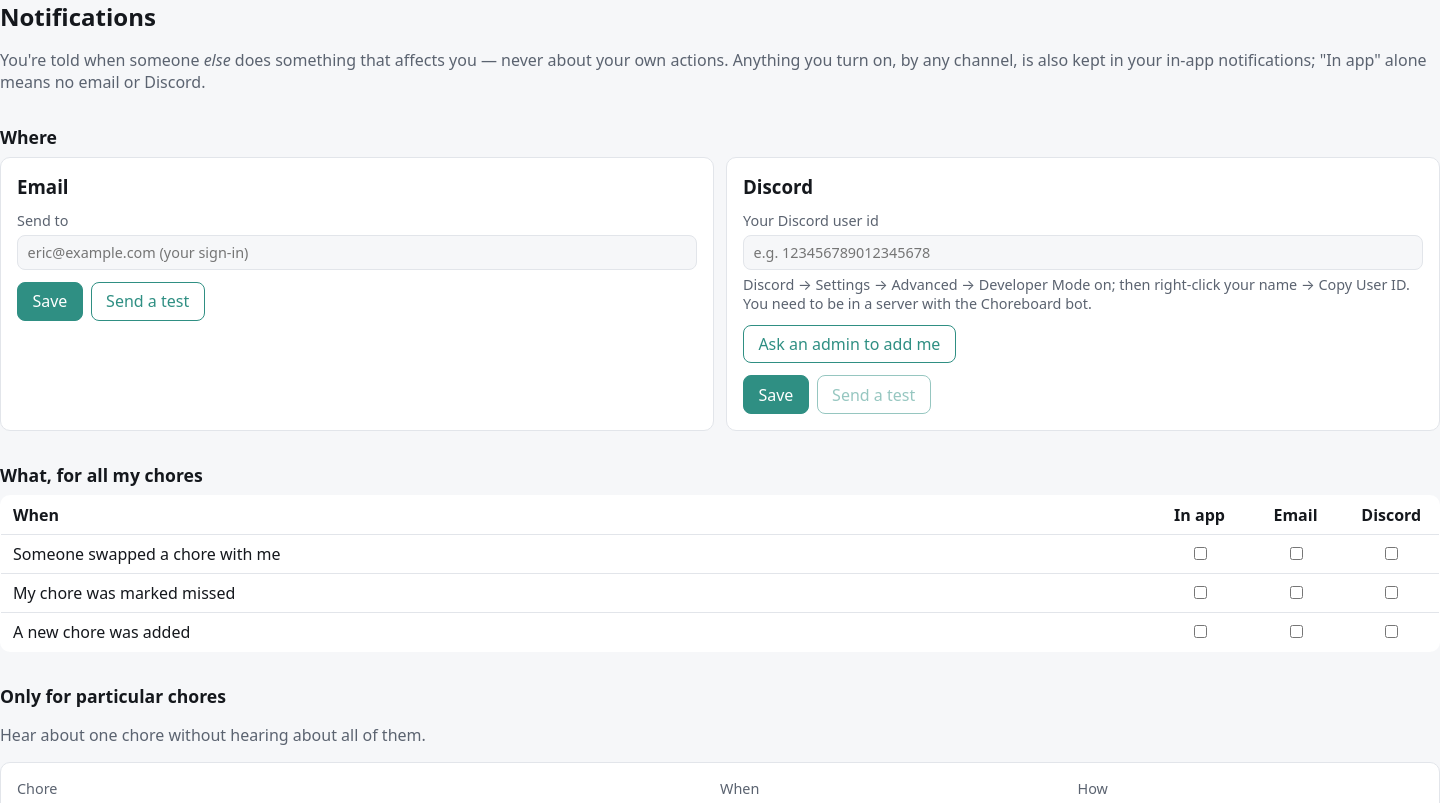
notifications › refuses a Discord username where an id is needed
This screenshot has width=1440, height=803.
Type "tucker#1234" into the field labelled "Discord user id" at (1083, 252), box left=743, top=235, right=1423, bottom=270
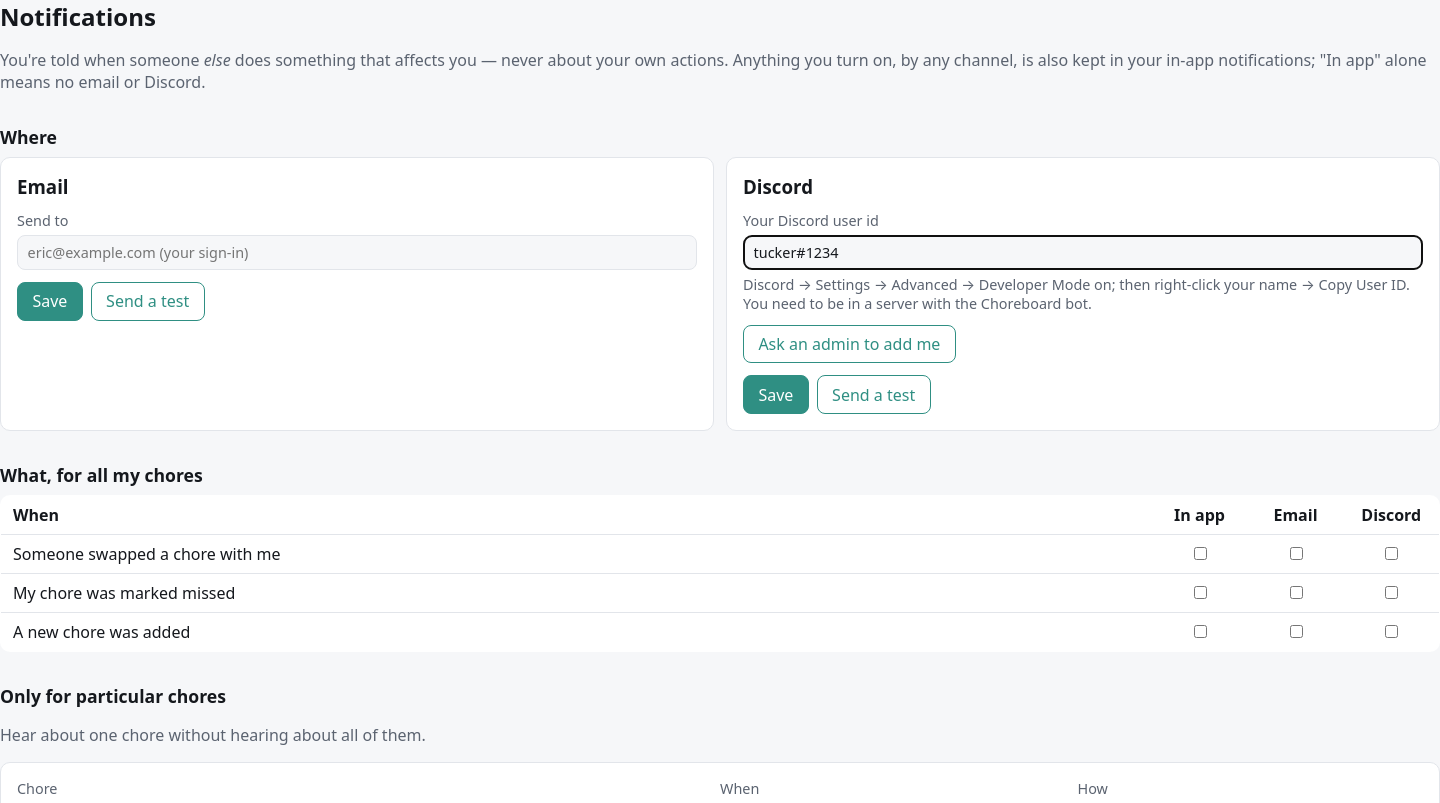
Click the button "Save" below "Your Discord user id" at (776, 394), box left=743, top=375, right=809, bottom=414
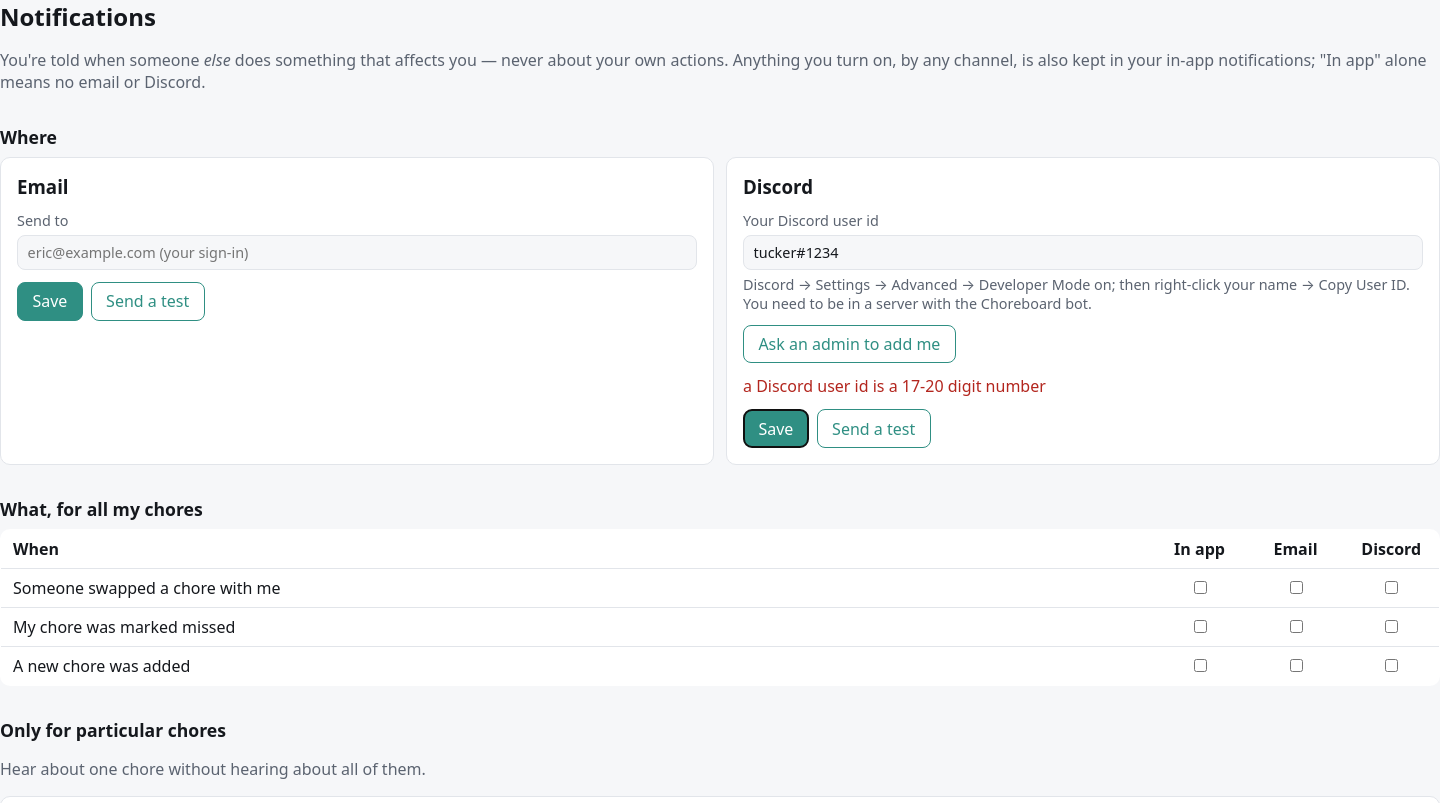
Now the message shows "17-20 digit", box left=743, top=375, right=1046, bottom=397
